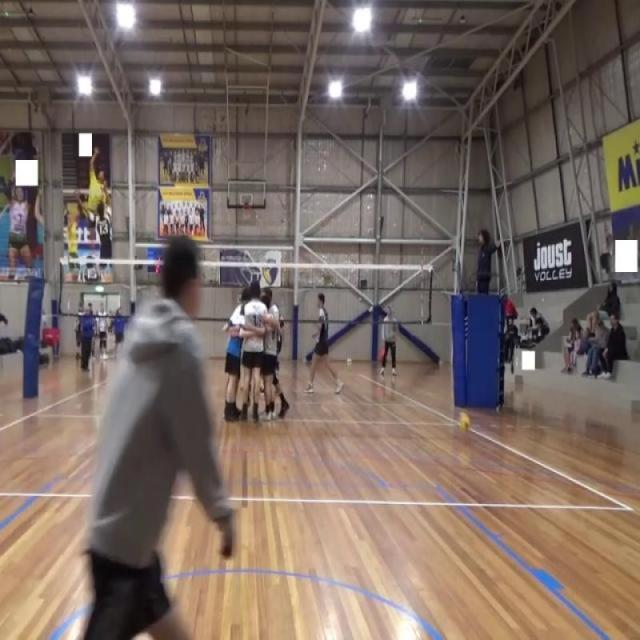volleyball: (456, 410, 471, 436)
